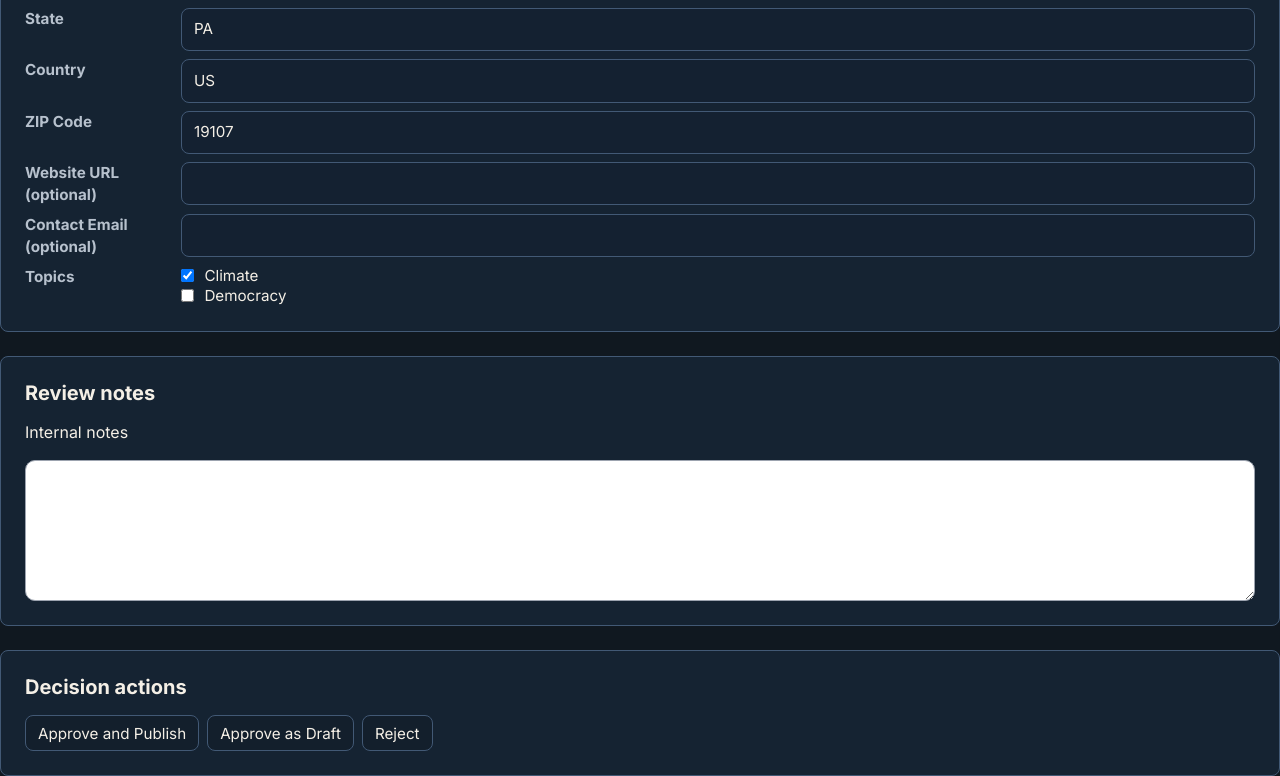
SubmissionReviewPageContent › Event draft approval normalizes and renders success
(page scrolled)
Click the button "Approve as Draft".
click(280, 733)  # box x1=207 y1=715 x2=354 y2=751
(page scrolled)
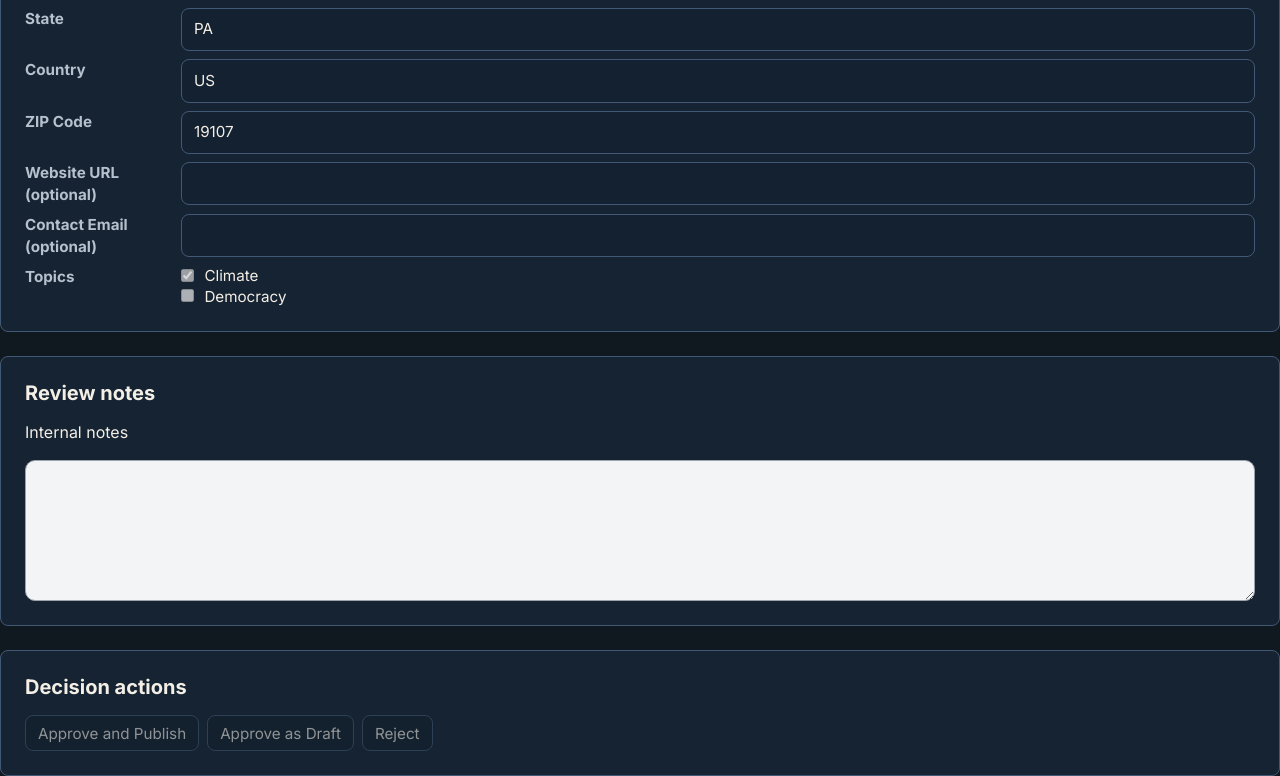
expect the button "Approve as Draft" is disabled: met, box x1=207 y1=715 x2=354 y2=751
